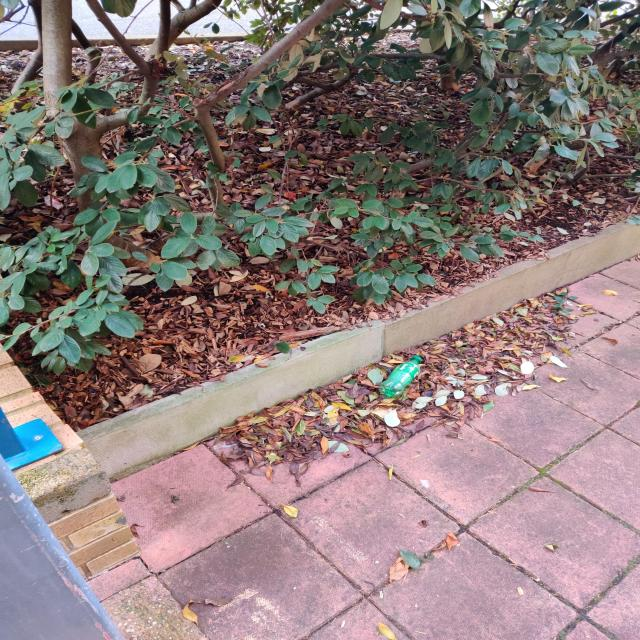litter: (362, 335, 436, 408)
